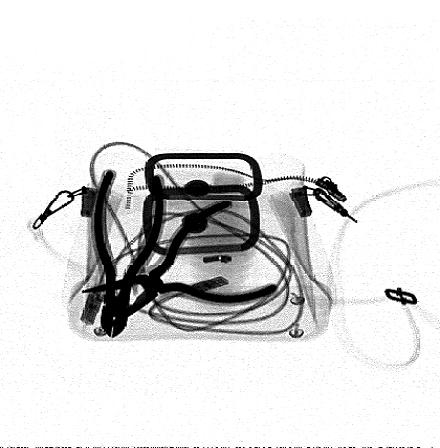Pliers: (78, 199, 276, 324), (90, 169, 168, 341)
